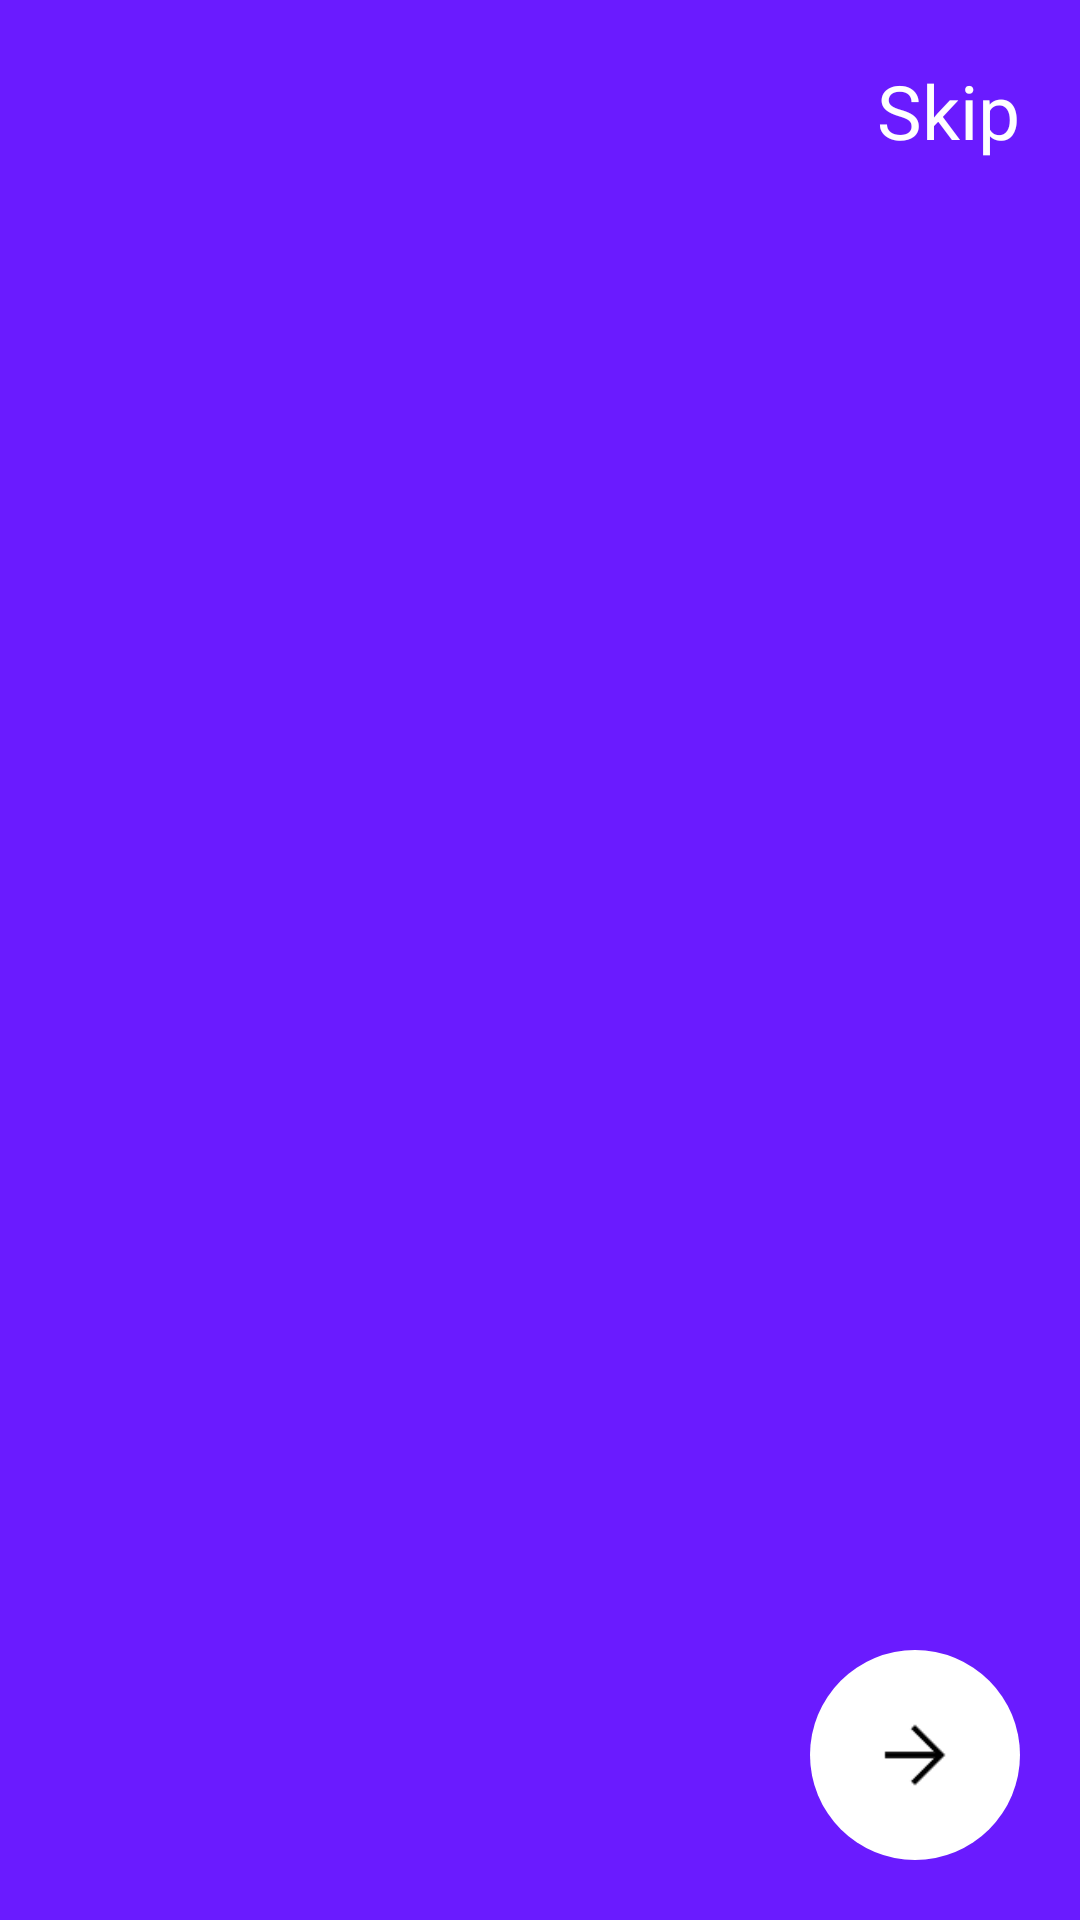

Icon bounding boxes for this 1080w x 1920h phone screenshot, format (x1, y1, x2, y2):
next arrow: (810, 1650, 1020, 1860)
